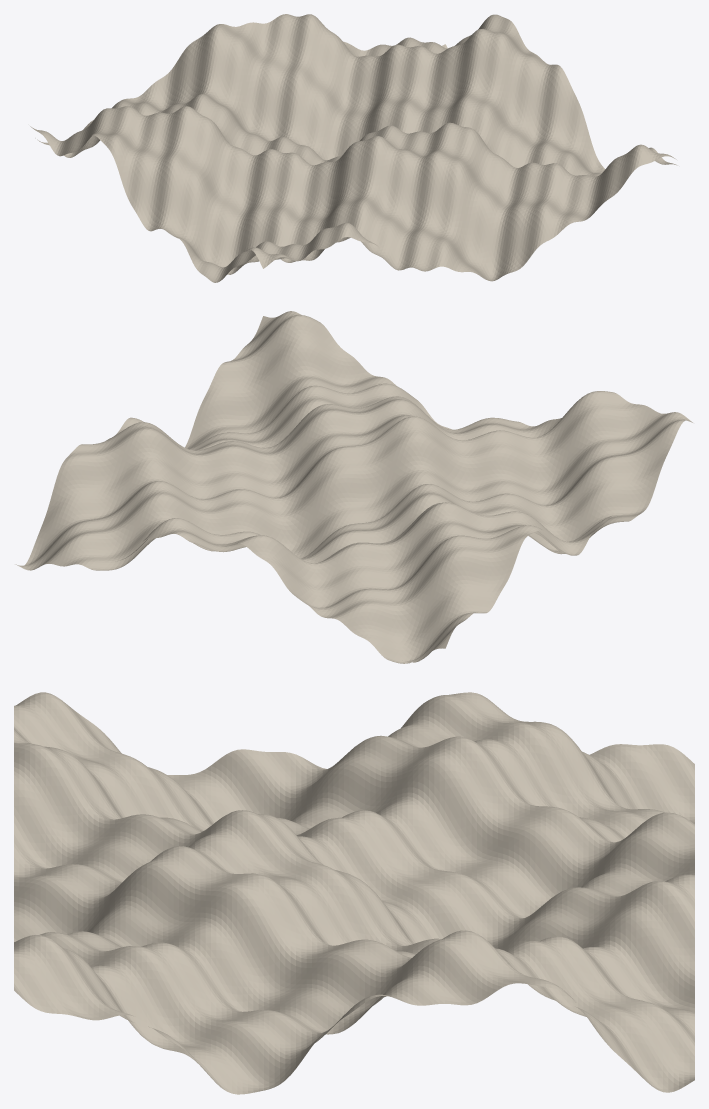
Rendered from cluster-terrain.glb.
3 views of the same model, one above another, from view 1: azimuth 30°, elevation 25°; view 2: azimuth 150°, elevation 25°; view 3: azimuth 270°, elevation 25° (orthographic). The views are drawn at different scales.
Visible parts, largest first — view 1: terrain; view 2: terrain; view 3: terrain.
Boxes of the visible parts, x1,y1,x2,y2 form: terrain: [30, 14, 677, 282]; terrain: [15, 311, 692, 663]; terrain: [14, 692, 694, 1094].
Bounding box in the file's own units: 40 × 8.88 × 40.
